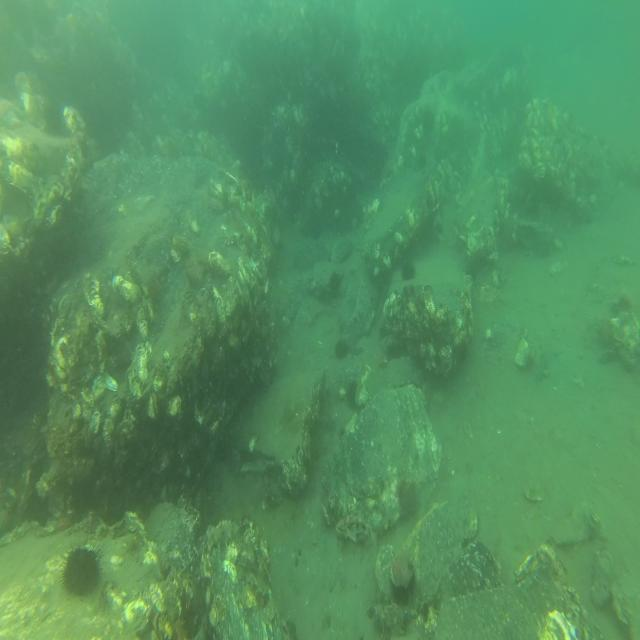echinus: (64, 547, 101, 589), (44, 103, 64, 134), (402, 261, 418, 284), (334, 339, 348, 360), (345, 384, 359, 404), (328, 273, 340, 292)
holothurian: (205, 518, 242, 552)
